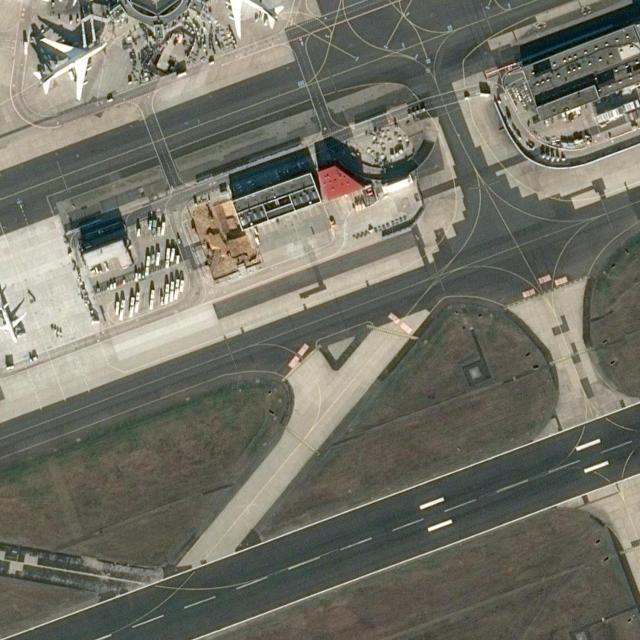Aircraft: (30, 36, 107, 100), (204, 0, 282, 38)
